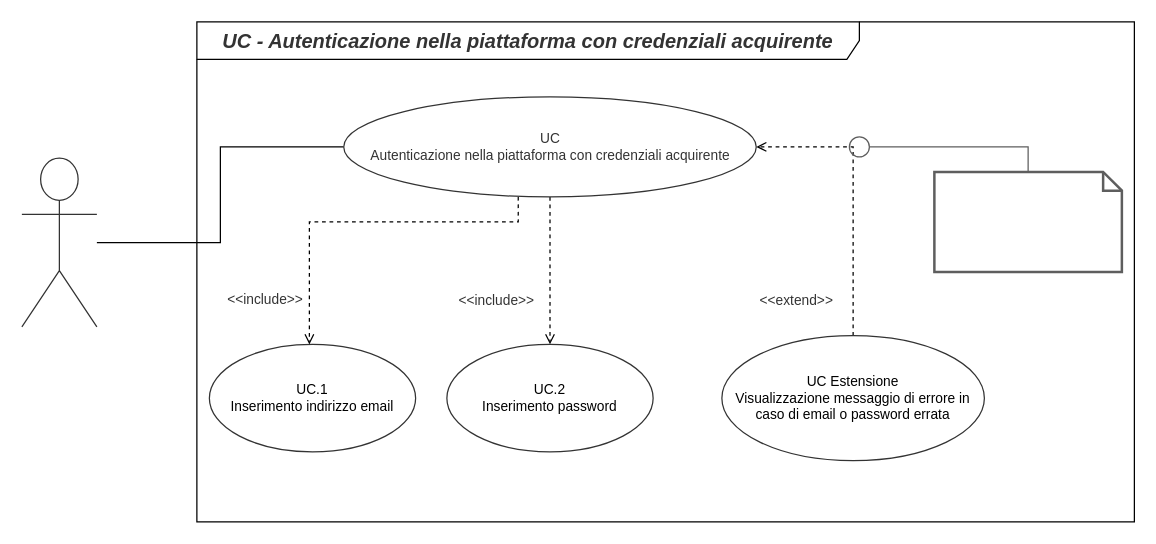
The diagram is 1156 pixels wide and 544 high, and some of its shapes have lost their labels. Each missing label, with the centre of its shape:
Condition: {Credenziali fornite non presenti nella piattaforma}: [1027,221]
Utente non autenticato: [59,242]
